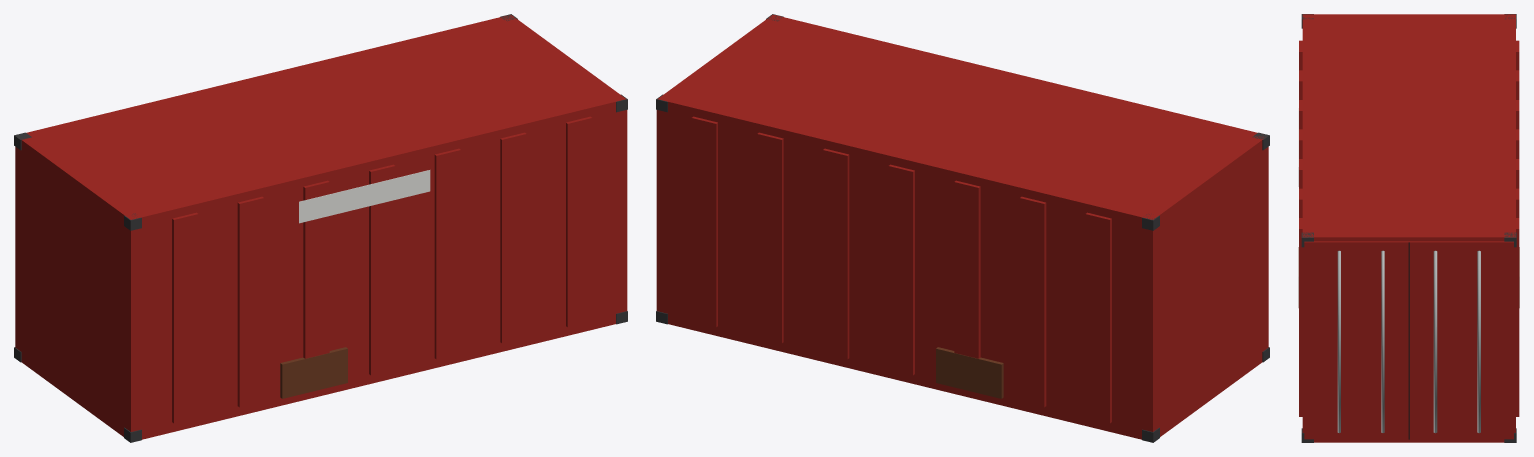
The model's file is shipping_container.glb.
3 renders of one model, left to right at view 1: azimuth 30°, elevation 25°; view 2: azimuth 150°, elevation 25°; view 3: azimuth 270°, elevation 25°, orthographic. The views are drawn at different scales.
Parts seen in each view (by area): view 1: shipping_container; view 2: shipping_container; view 3: shipping_container.
Part boxes in pixels (box(x1,y1,x2,y2)): shipping_container: box(14, 14, 627, 442); shipping_container: box(656, 14, 1269, 442); shipping_container: box(1298, 14, 1519, 442).
Bounding box in the file's own units: 6.12 × 2.59 × 2.54.
1 material, 1 textured.
